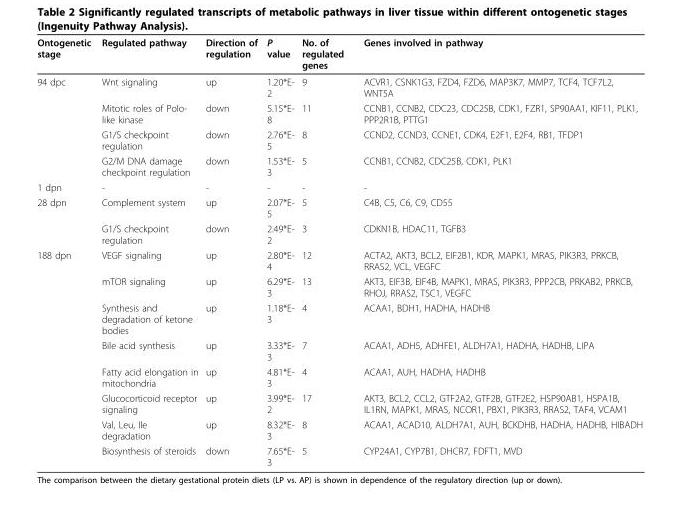table: (36, 36, 642, 467)
table column: (352, 36, 642, 467), (95, 36, 201, 467), (201, 36, 261, 467), (36, 36, 95, 467), (297, 36, 352, 467), (261, 36, 297, 467)
table column header: (36, 36, 642, 73)
table row: (36, 299, 642, 337), (36, 36, 642, 73), (36, 73, 642, 100), (36, 152, 642, 179), (36, 220, 642, 247), (36, 363, 642, 390), (36, 100, 642, 126), (36, 126, 642, 152), (36, 194, 642, 220), (36, 247, 642, 273), (36, 273, 642, 299), (36, 337, 642, 363), (36, 390, 642, 416), (36, 416, 642, 442), (36, 442, 642, 467), (36, 179, 642, 194)
table spanning cell: (36, 247, 95, 467), (36, 73, 95, 179), (36, 194, 95, 247)
